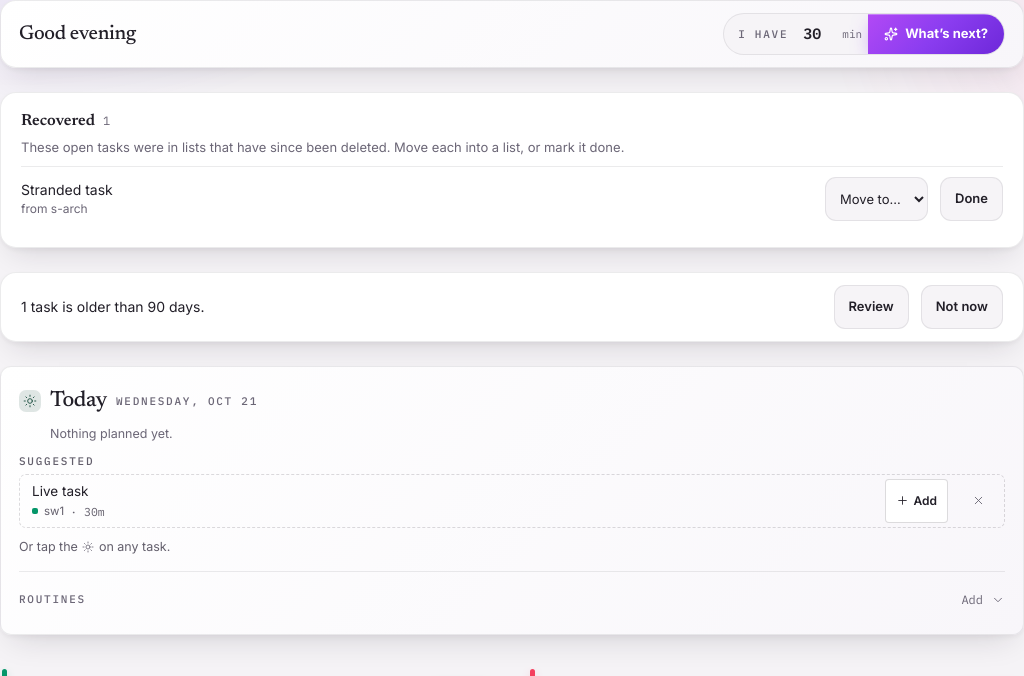
Test: Dashboard › lists open tasks under an archived subcategory in Recovered and moves them (chunk 70)
Expected: the text "Stranded task" is shown, [21,181,113,198]
Expected: the text "from s-arch" is shown, [21,201,88,216]
Select "sw1" in the dropdown named "Move Stranded task to". click: (876, 199)
box: [825,177,928,221]
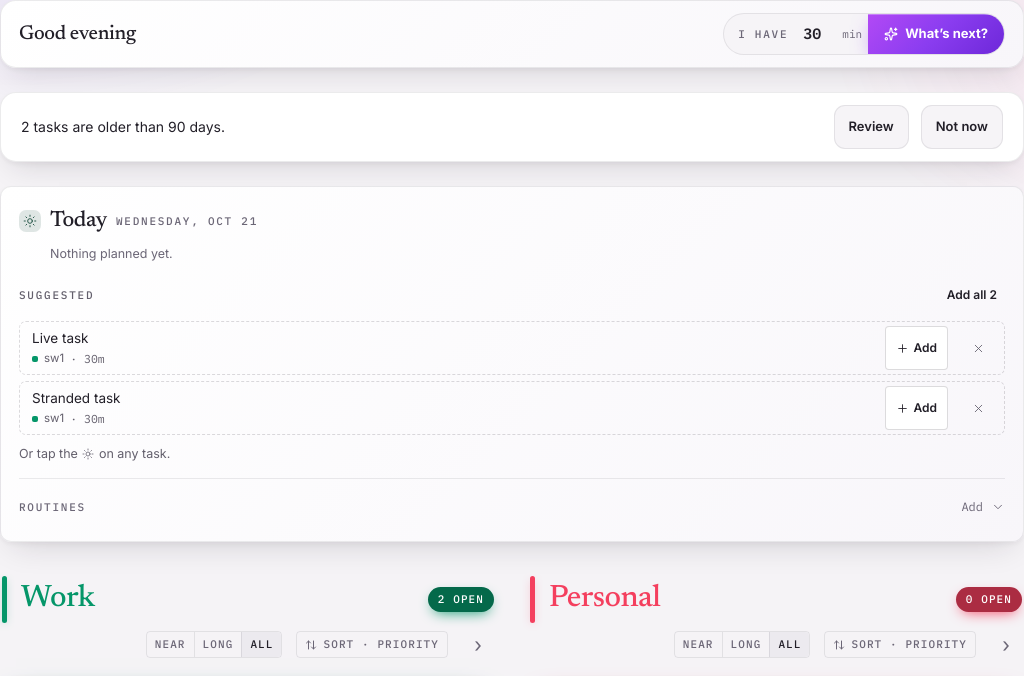
Expected: the heading "Recovered" is gone
